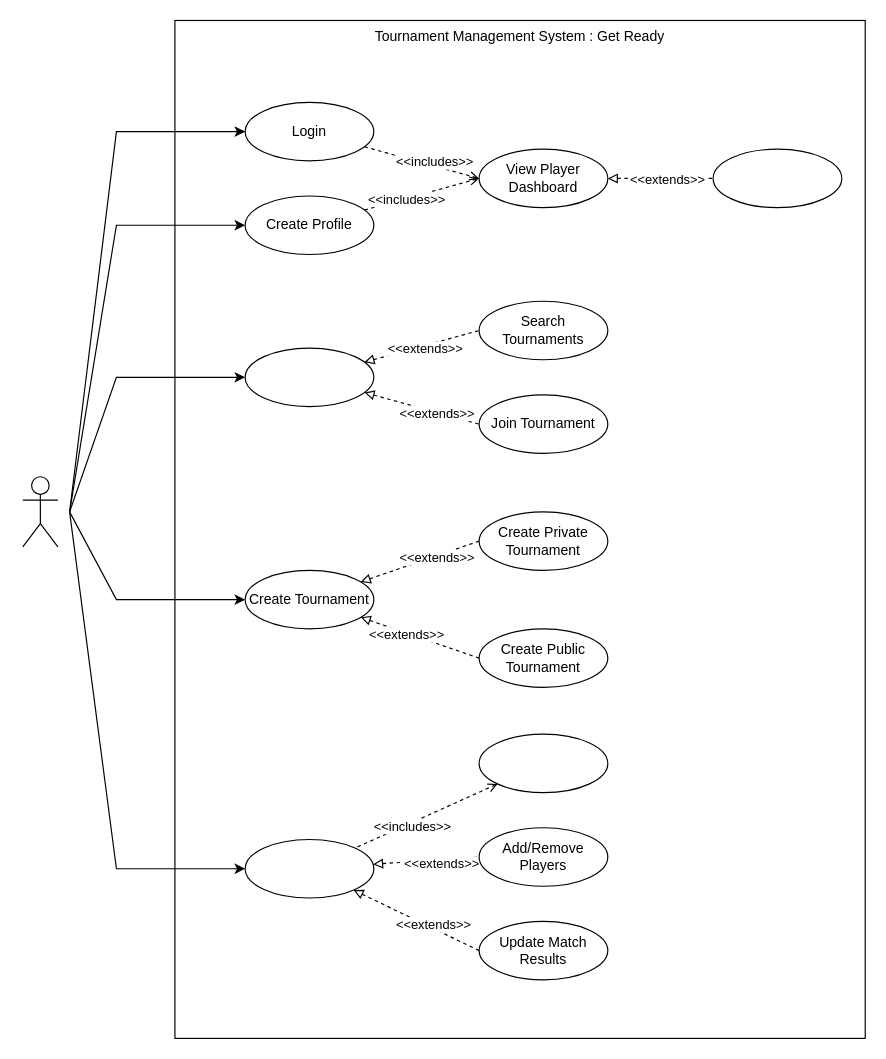
The diagram is 886 pixels wide and 1059 high, and some of its shapes have lost their labels. The centre of each missing label's shape, as x and y in pixels:
Manage Tournament: point 309,868
Player: point 40,511
Seed Players: point 543,763
Update Personal Details: point 777,178
View Tournaments: point 309,377
